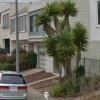Car: (3, 60, 33, 100)
